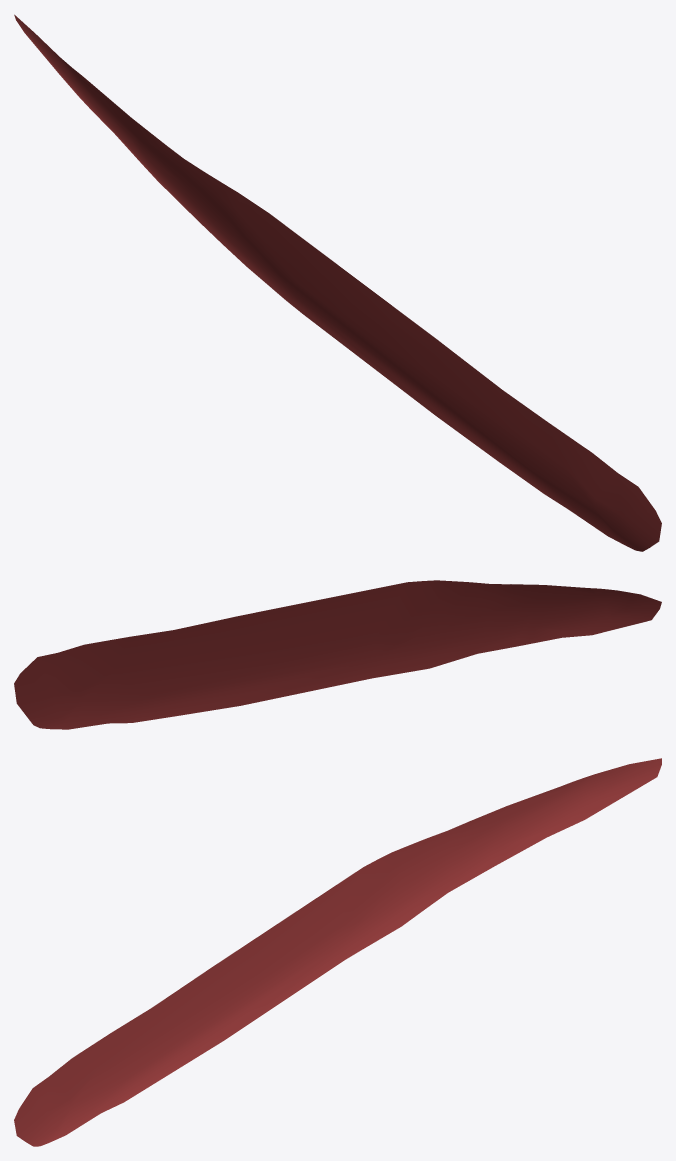
Rendered from external-abdominal-oblique-muscle-or.glb.
3 renders of one model, top to bottom at view 1: azimuth 30°, elevation 25°; view 2: azimuth 210°, elevation 25°; view 3: azimuth 270°, elevation 25°, orthographic. The views are drawn at different scales.
Visible parts, largest first — view 1: External abdominal oblique muscle.or; view 2: External abdominal oblique muscle.or; view 3: External abdominal oblique muscle.or.
Part boxes in pixels (x1=…): External abdominal oblique muscle.or: x1=14, y1=14, x2=661, y2=551; External abdominal oblique muscle.or: x1=14, y1=580, x2=661, y2=729; External abdominal oblique muscle.or: x1=14, y1=758, x2=661, y2=1146.
Bounding box in the file's own units: 0.0196 × 0.0232 × 0.0484.
